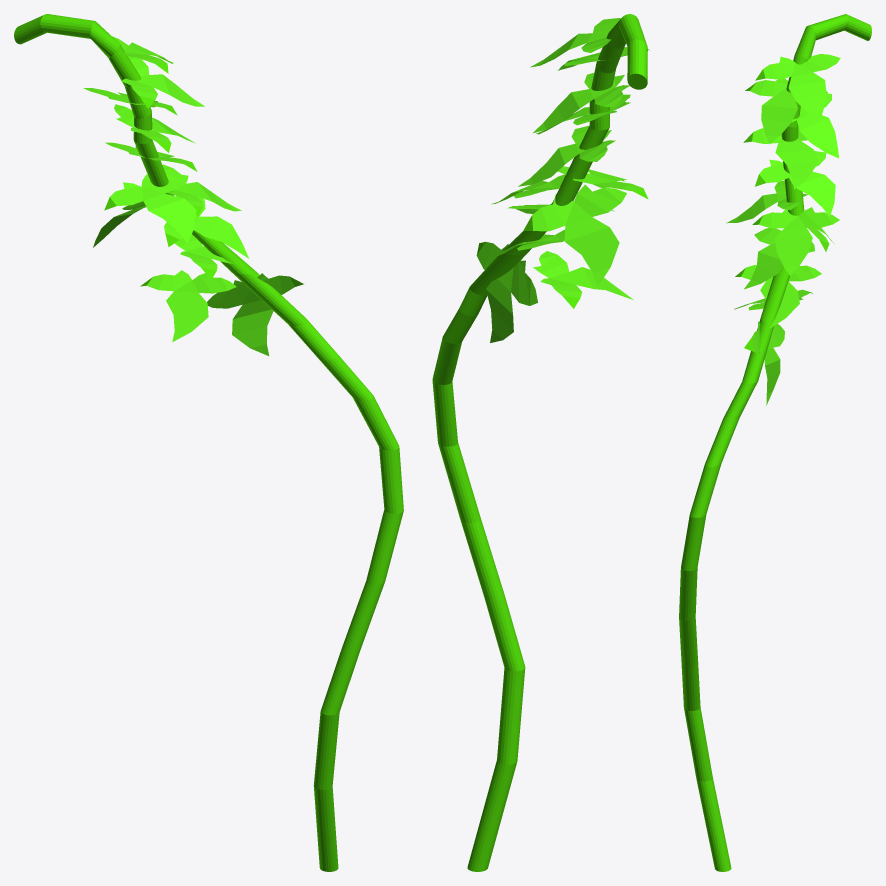
Rendered from leafVine.fbx.
3 views of the same model, side by side, from view 1: azimuth 30°, elevation 25°; view 2: azimuth 150°, elevation 25°; view 3: azimuth 270°, elevation 25° (orthographic). The views are drawn at different scales.
Parts seen in each view (by area): view 1: leafvine 2; view 2: leafvine 2; view 3: leafvine 2.
Part boxes in pixels (left/top/right/bottom): leafvine 2: left=14, top=14, right=403, bottom=871; leafvine 2: left=432, top=14, right=649, bottom=871; leafvine 2: left=679, top=14, right=871, bottom=871.
Size of the model in its own units: 715 by 2024 by 465.
